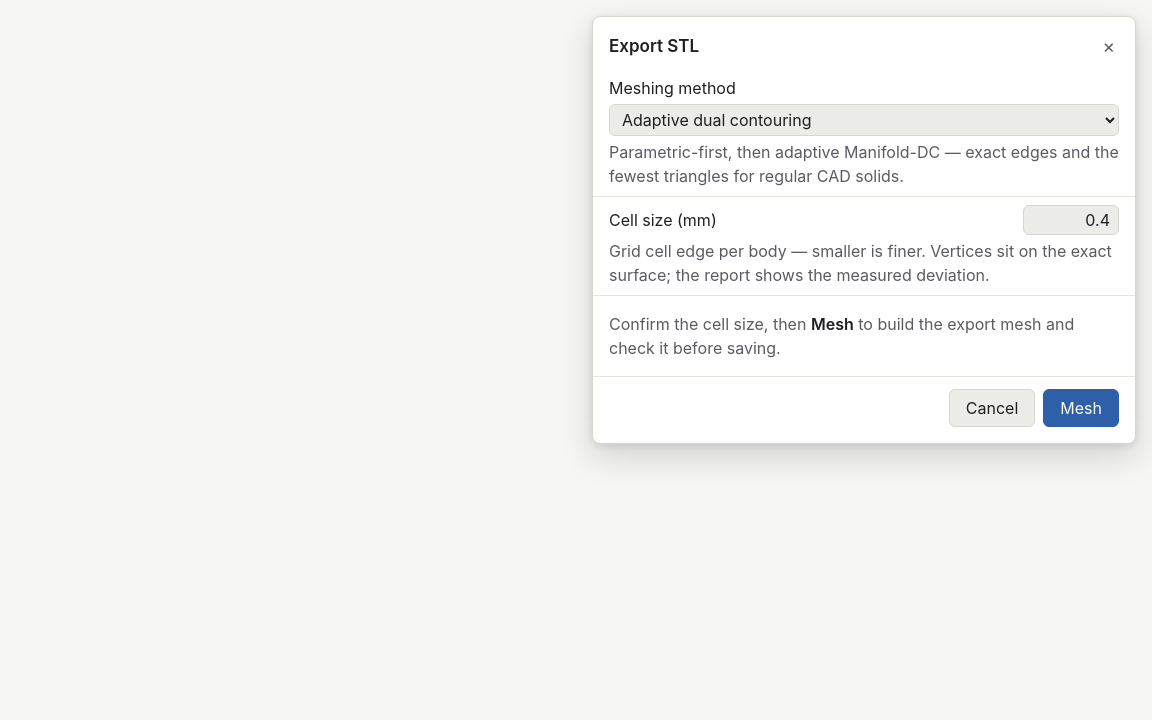
Scenario: ExportDialog — runtime (6a0354e8) › reports the runtime after a mesh, for any method
The image size is (1152, 720).
Click the button with test id "export-mesh" at (1081,408), box x1=1043 y1=389 x2=1119 y2=427
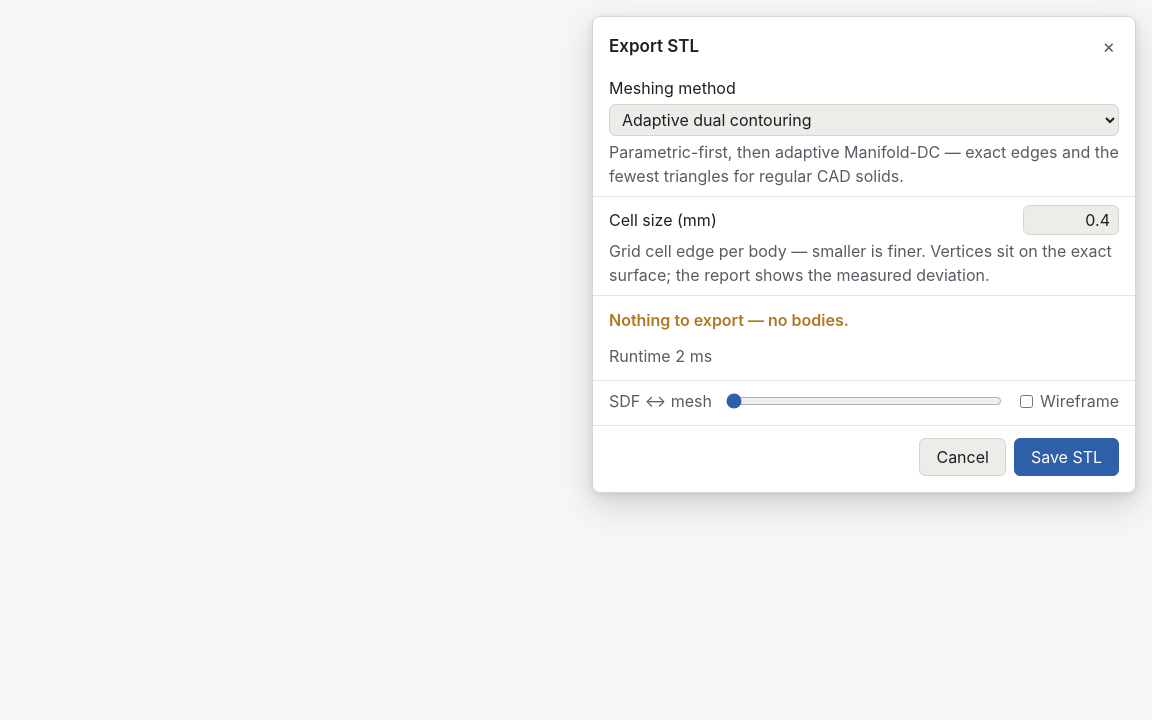
Expected: the text with test id "export-duration" reads "Runtime 2 ms", x1=609 y1=346 x2=712 y2=366
